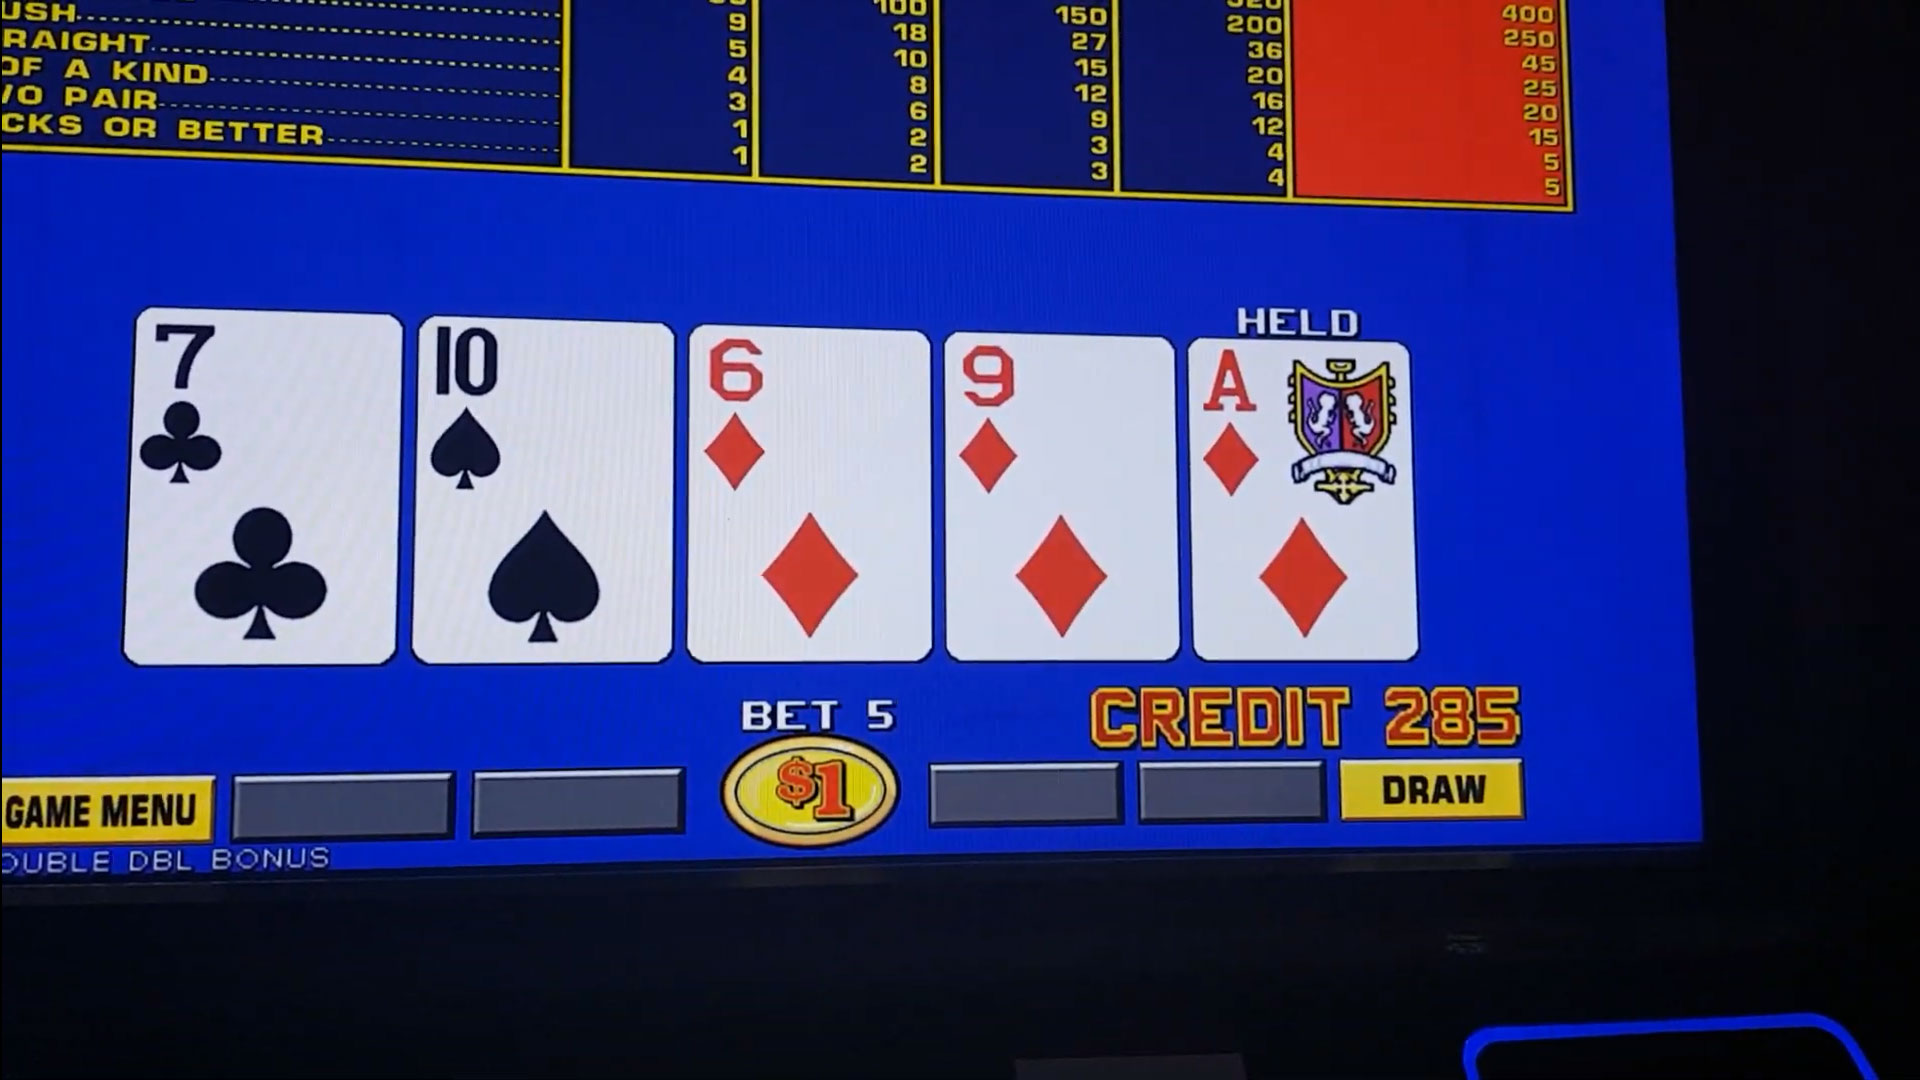C7: (140, 320, 397, 502)
D6: (694, 338, 924, 502)
D9: (949, 345, 1171, 506)
DA: (1191, 344, 1408, 506)
ST: (426, 327, 667, 500)
